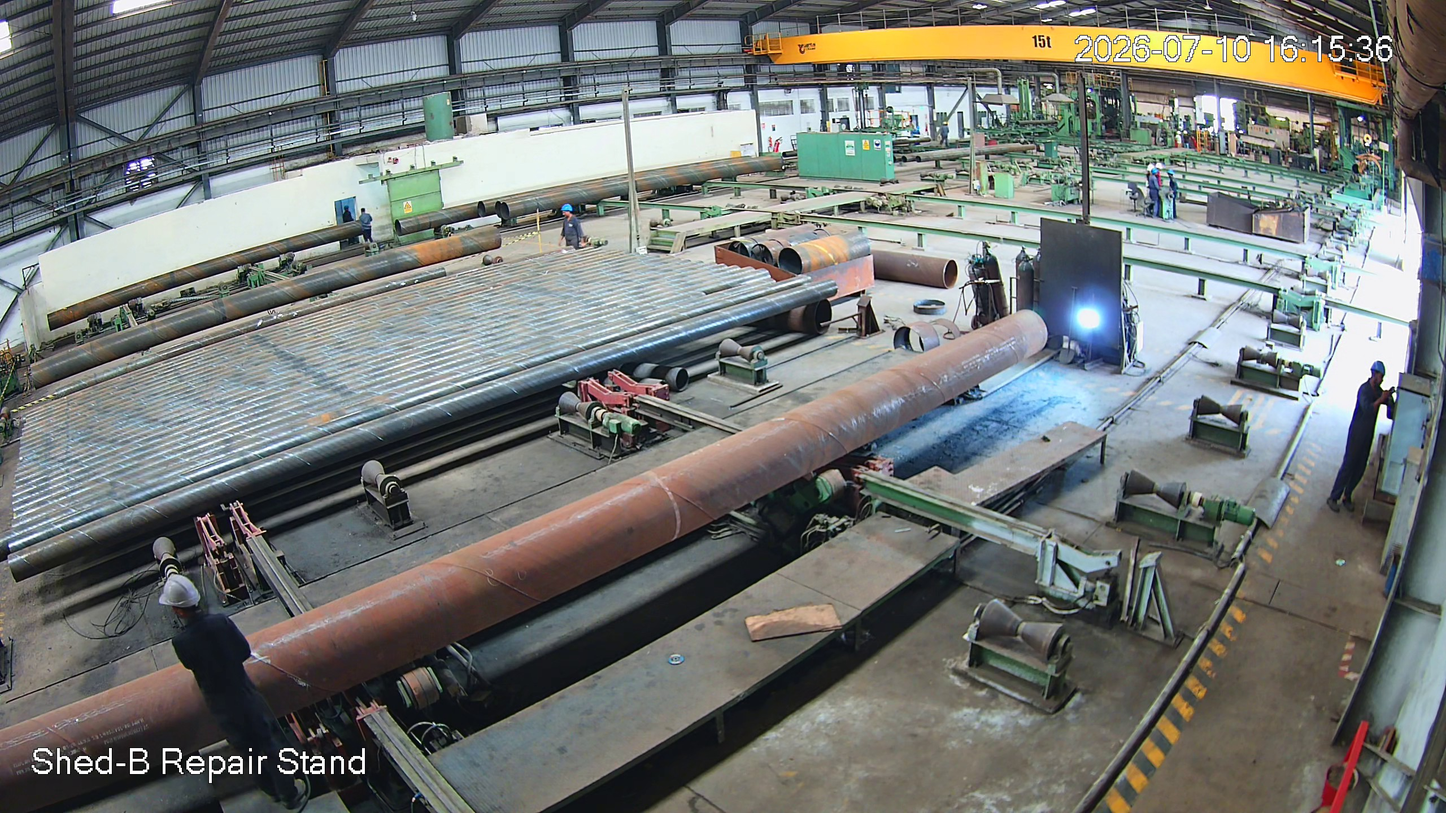Helmet: (154, 567, 213, 633), (1366, 352, 1396, 400), (558, 201, 579, 223), (1165, 168, 1176, 180), (1150, 166, 1162, 177)
Person: (149, 574, 306, 779), (1330, 364, 1397, 527), (557, 203, 586, 254), (1167, 169, 1182, 221), (358, 207, 377, 245), (1148, 168, 1159, 215)
